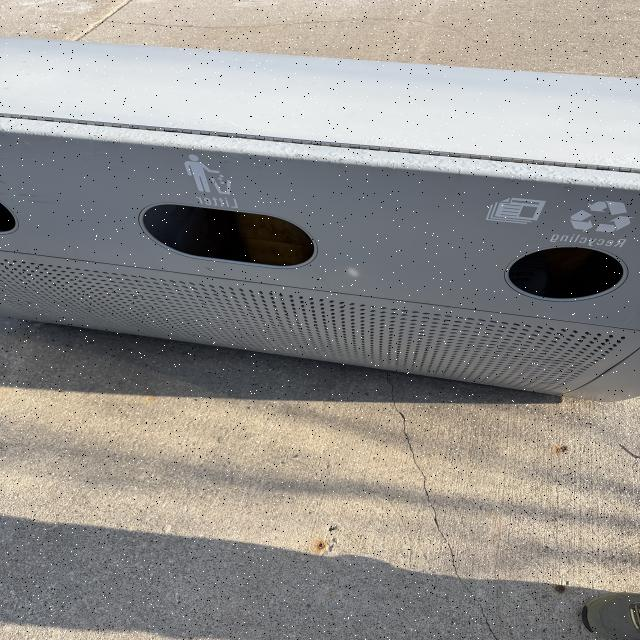Dustbin: (0, 32, 640, 403)
